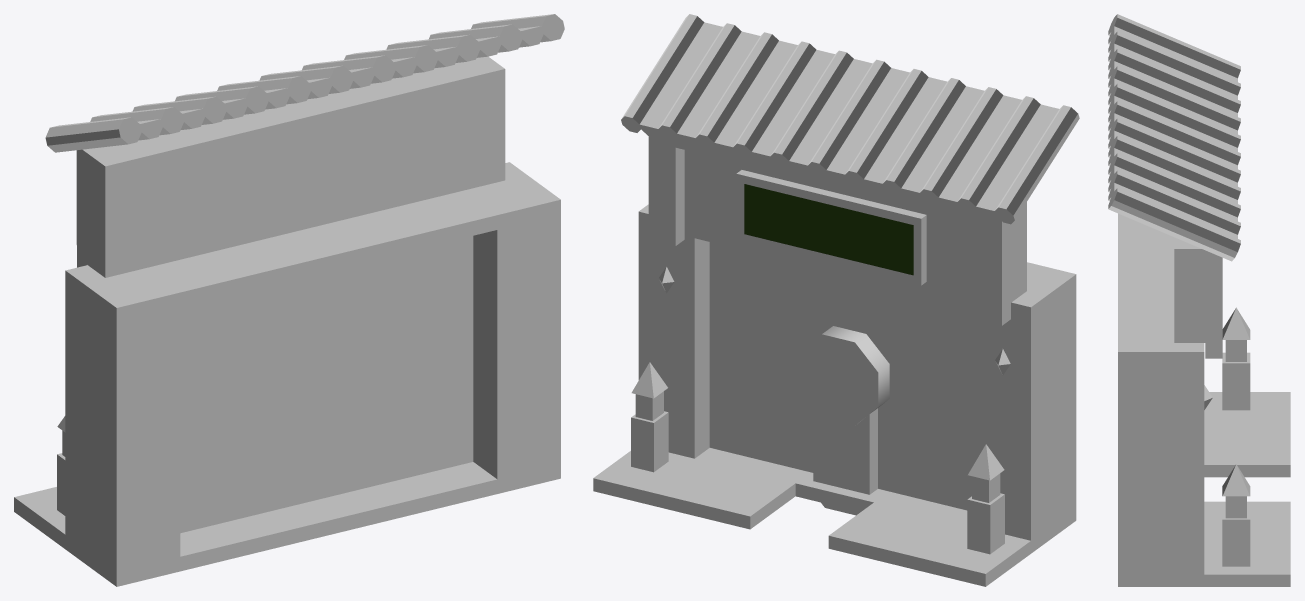
The model's file is darkness_level_gate3.FBX.
3 renders of one model, left to right at view 1: azimuth 30°, elevation 25°; view 2: azimuth 150°, elevation 25°; view 3: azimuth 270°, elevation 25°, orthographic. The views are drawn at different scales.
Visible parts, largest first — view 1: Object058, Box099, Object061, Object054, Object062; view 2: Box099, Object058, Object061, Object054, Box100, Cylinder001, Object062, Object060; view 3: Object058, Box099, Object062, Object060.
Boxes of the visible parts, x1,y1,x2,y2 form: Object058: (14,162,560,586); Box099: (45,14,564,277); Object061: (315,236,473,500); Object054: (180,274,314,533); Object062: (57,416,65,515); Box099: (621,14,1079,325); Object058: (593,204,1076,586); Object061: (709,242,849,472); Object054: (850,276,974,510); Box100: (736,170,926,285); Cylinder001: (798,326,889,515); Object062: (967,444,1004,554); Object060: (631,362,668,472); Object058: (1118,213,1290,586); Box099: (1108,14,1240,358); Object062: (1222,307,1250,410); Object060: (1222,464,1250,566).
Size of the model in its own units: 50 by 51.48 by 21.11.
